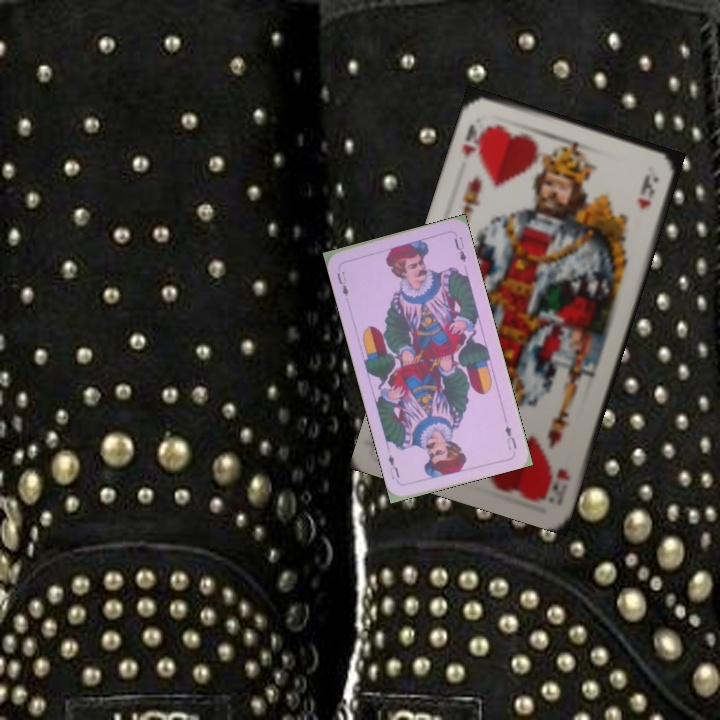EU: (501, 421, 519, 453), (333, 269, 351, 299)
HK: (458, 119, 491, 160), (548, 464, 573, 500)
